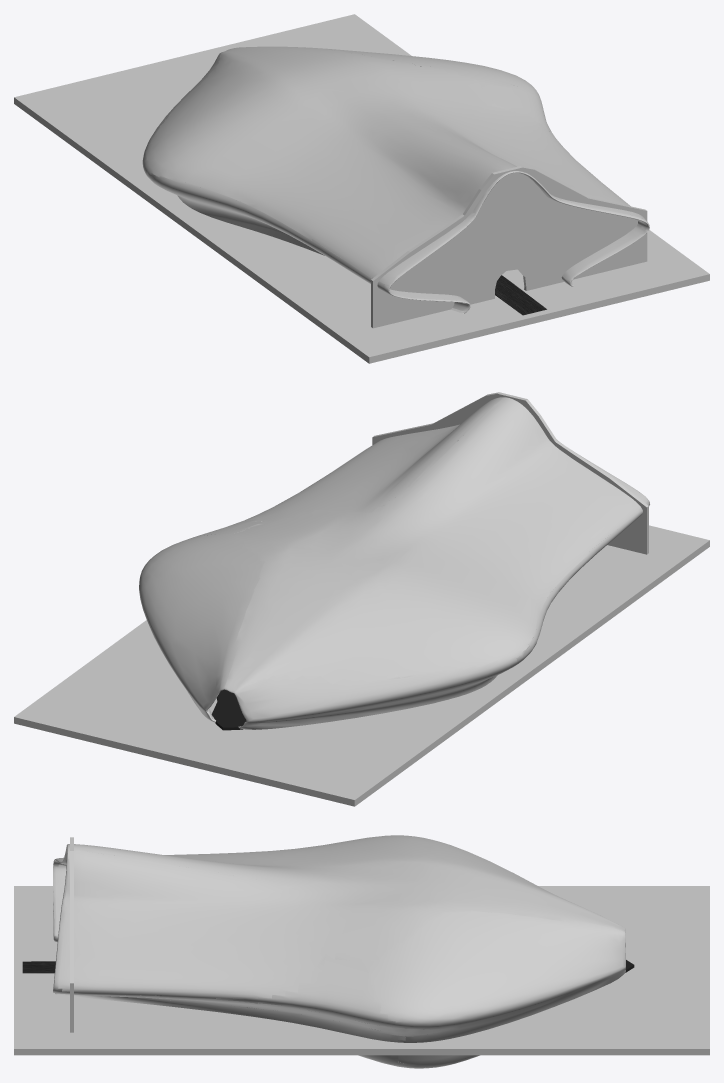
The model's file is phase2.gltf.
The picture shows the model from 3 angles, top to bottom: view 1: azimuth 30°, elevation 25°; view 2: azimuth 150°, elevation 25°; view 3: azimuth 270°, elevation 25°; orthographic projection. The views are drawn at different scales.
Visible parts, largest first — view 1: Circle.006, Plane.003, Plane, Cube.003; view 2: Circle.006, Plane.003, Plane, Cylinder; view 3: Circle.006, Plane.003, Plane, Cube.003.
Part boxes in pixels (left/top/right/bottom): Circle.006: left=142, top=46, right=649, bottom=313; Plane.003: left=14, top=14, right=709, bottom=363; Plane: left=371, top=166, right=647, bottom=328; Cube.003: left=495, top=275, right=546, bottom=315; Circle.006: left=139, top=397, right=649, bottom=729; Plane.003: left=14, top=525, right=709, bottom=806; Plane: left=372, top=392, right=648, bottom=554; Cylinder: left=211, top=689, right=246, bottom=730; Circle.006: left=53, top=835, right=625, bottom=1068; Plane.003: left=14, top=886, right=709, bottom=1055; Plane: left=70, top=837, right=73, bottom=1032; Cube.003: left=22, top=961, right=55, bottom=973.
Bounding box in the file's own units: 58.13 × 24.51 × 94.93.
